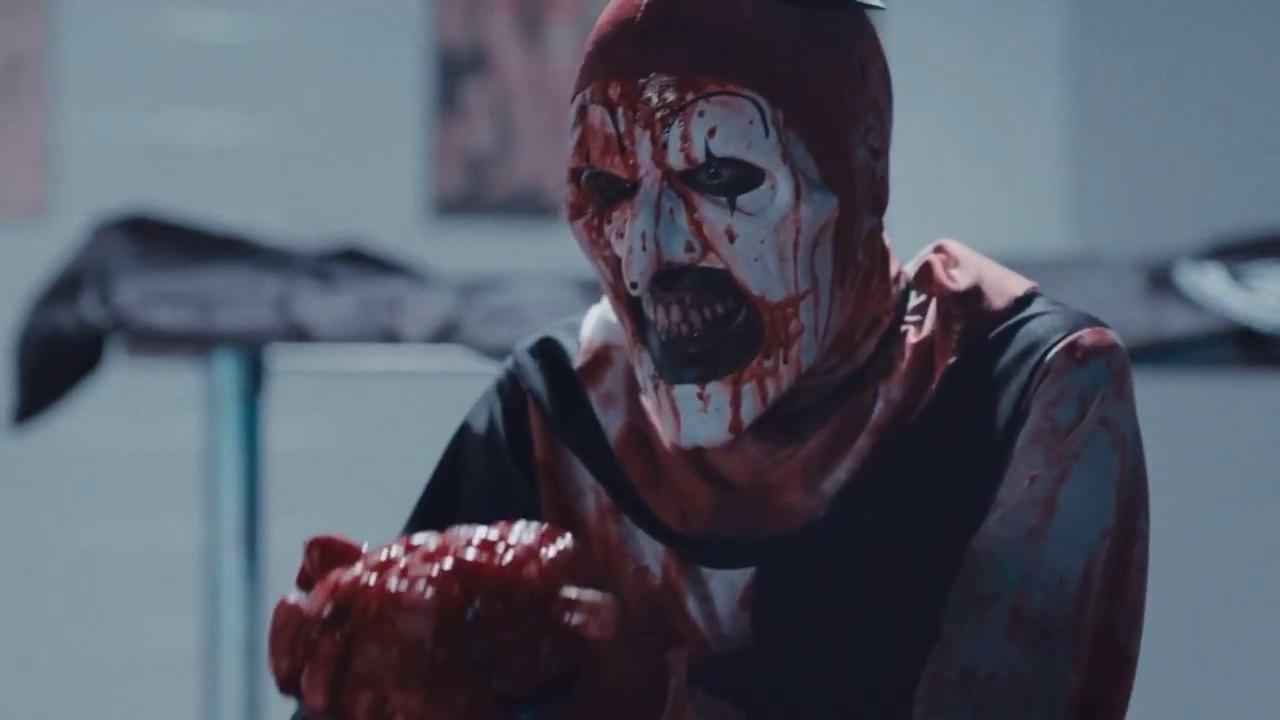Fire: (568, 74, 1038, 538), (270, 407, 751, 716), (919, 328, 1150, 717)
